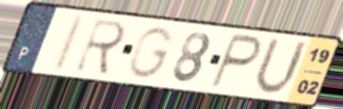8: (172, 31, 212, 84)
G: (126, 25, 177, 81)
I: (48, 12, 89, 74)
P: (207, 31, 265, 92)
R: (72, 16, 129, 78)
U: (250, 34, 311, 98)
